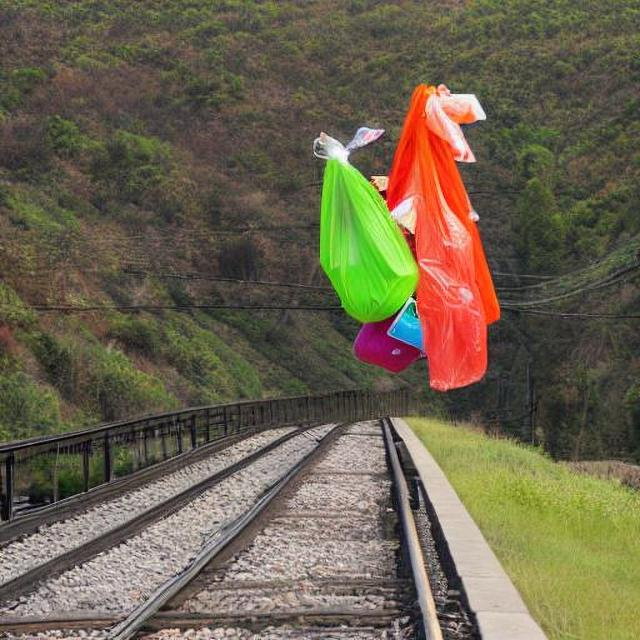floating object: (314, 82, 509, 391)
